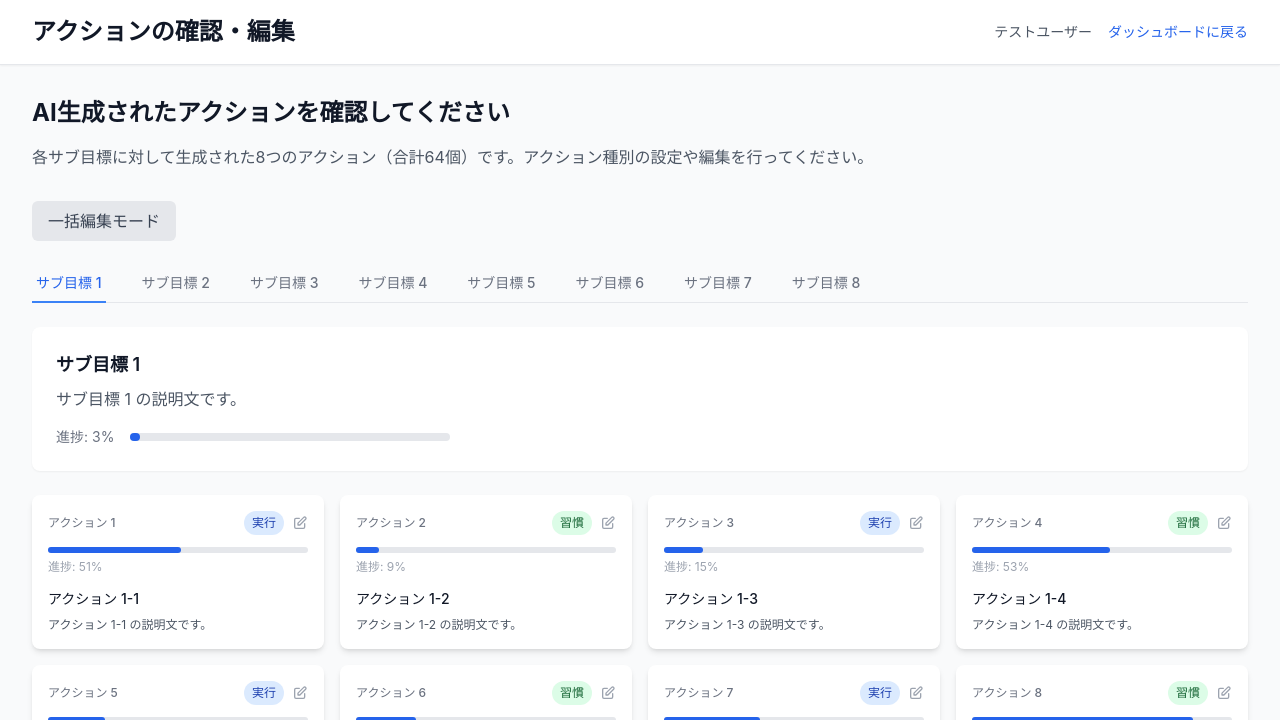
ActionEditPage › ツールバー › 一括編集モード時に実行ボタンが表示される
Click the button "一括編集モード" at (104, 221), box [32,201,176,241]
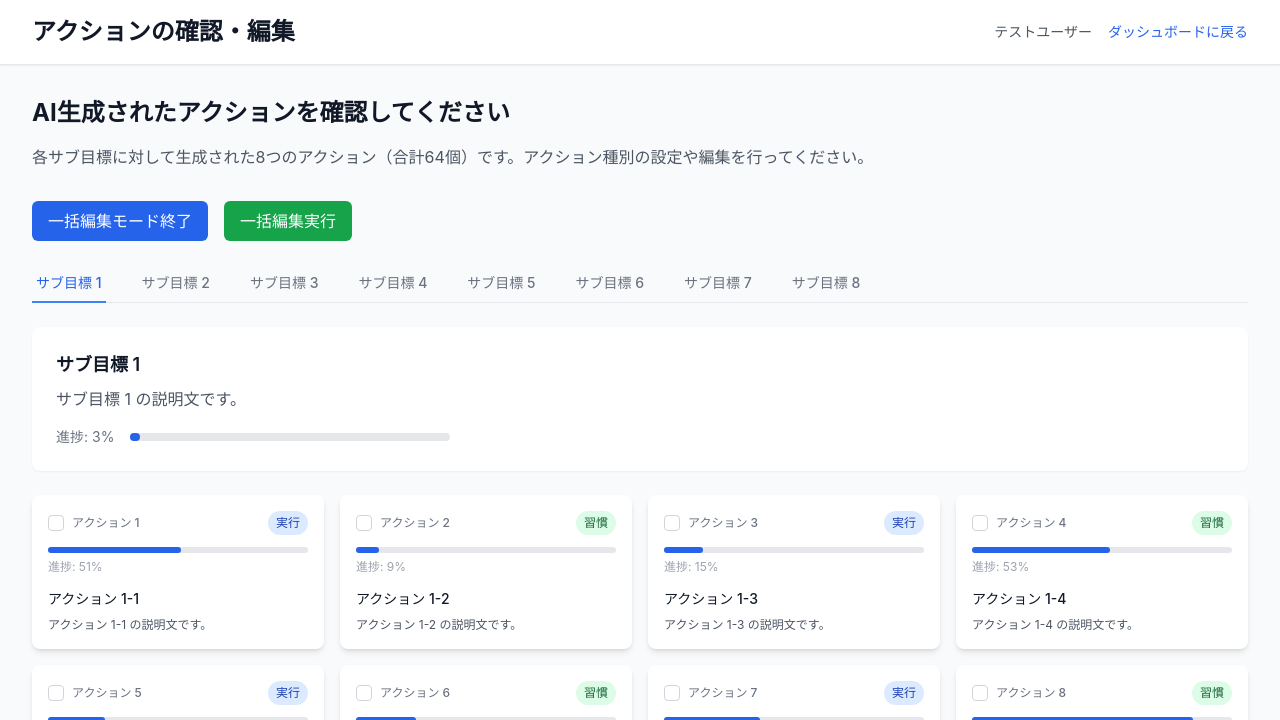
expect the button "一括編集実行" is shown: met, box [224,201,352,241]
